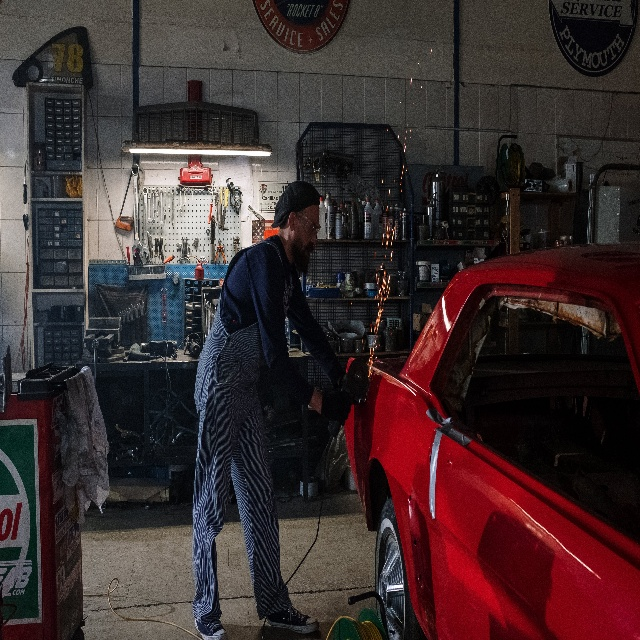Guantes: (320, 390, 352, 427)
